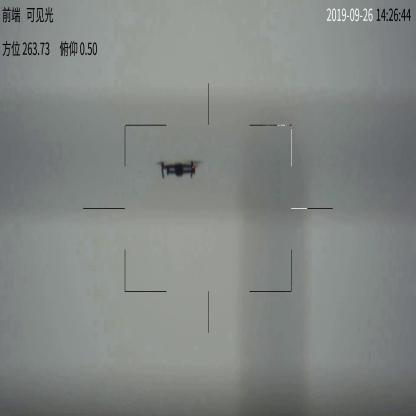uav: (151, 156, 201, 180)
